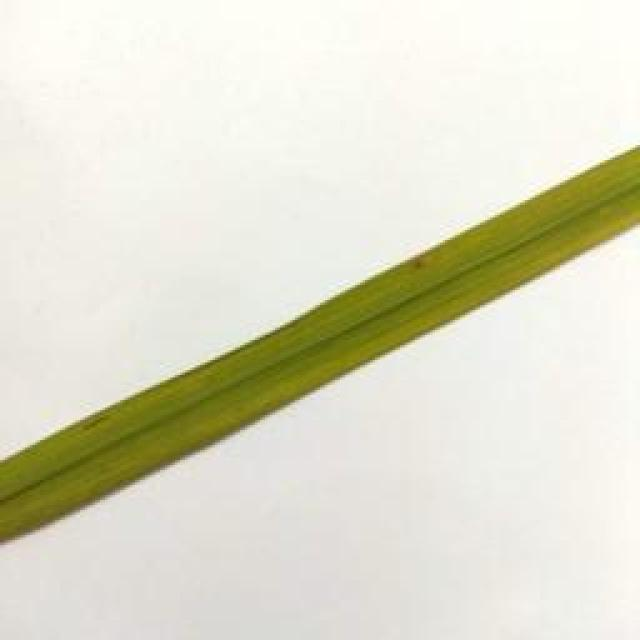Brown_Spot: (405, 257, 435, 274)
